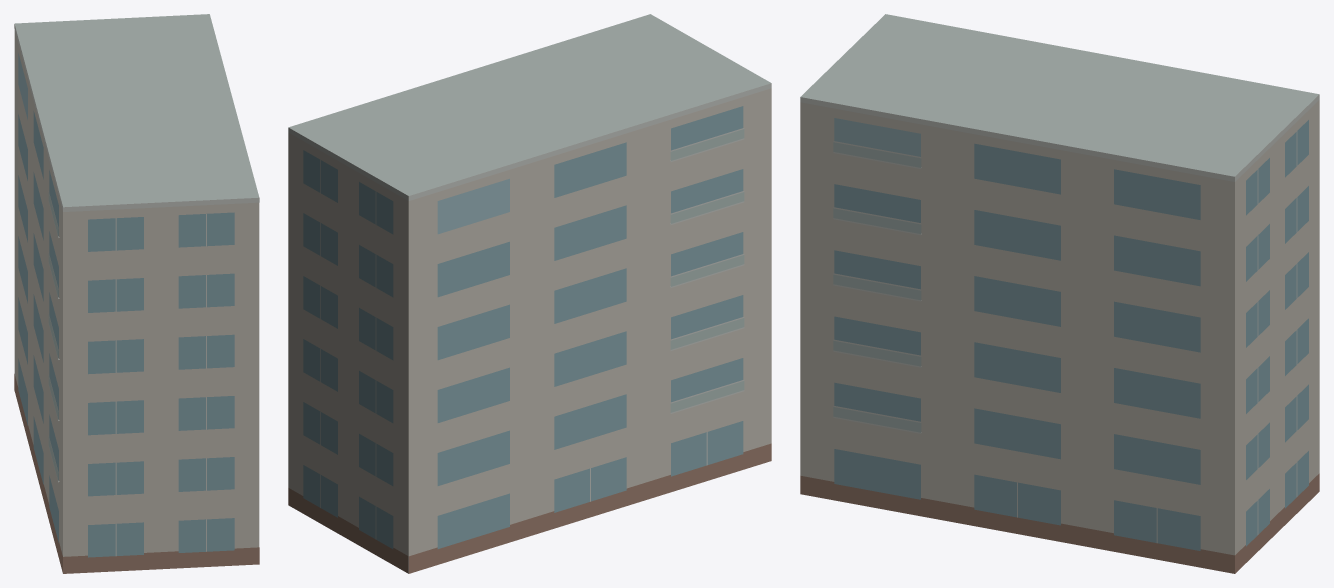
File: survey-upis-32565154.glb
The picture shows the model from 3 angles, left to right: view 1: azimuth 30°, elevation 25°; view 2: azimuth 150°, elevation 25°; view 3: azimuth 270°, elevation 25°; orthographic projection. The views are drawn at different scales.
Visible parts, largest first — view 1: survey-upis-32565154.tmp; view 2: survey-upis-32565154.tmp; view 3: survey-upis-32565154.tmp.
Boxes of the visible parts, left/top/right/bottom form: survey-upis-32565154.tmp: left=14, top=14, right=259, bottom=573; survey-upis-32565154.tmp: left=288, top=14, right=771, bottom=573; survey-upis-32565154.tmp: left=800, top=14, right=1319, bottom=573.
Size of the model in its own units: 16.09 by 18.3 by 21.7.
